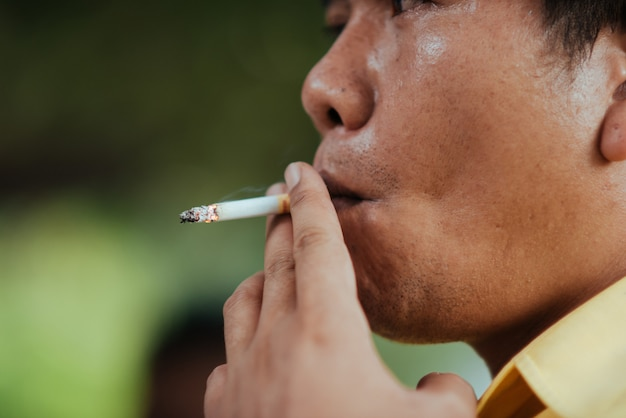cigarette: (178, 191, 297, 221)
